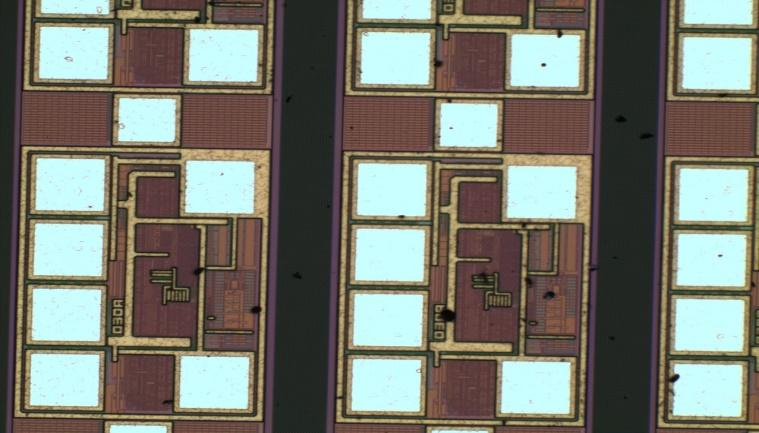PO CONTAMINATION: (58, 1, 734, 411)
